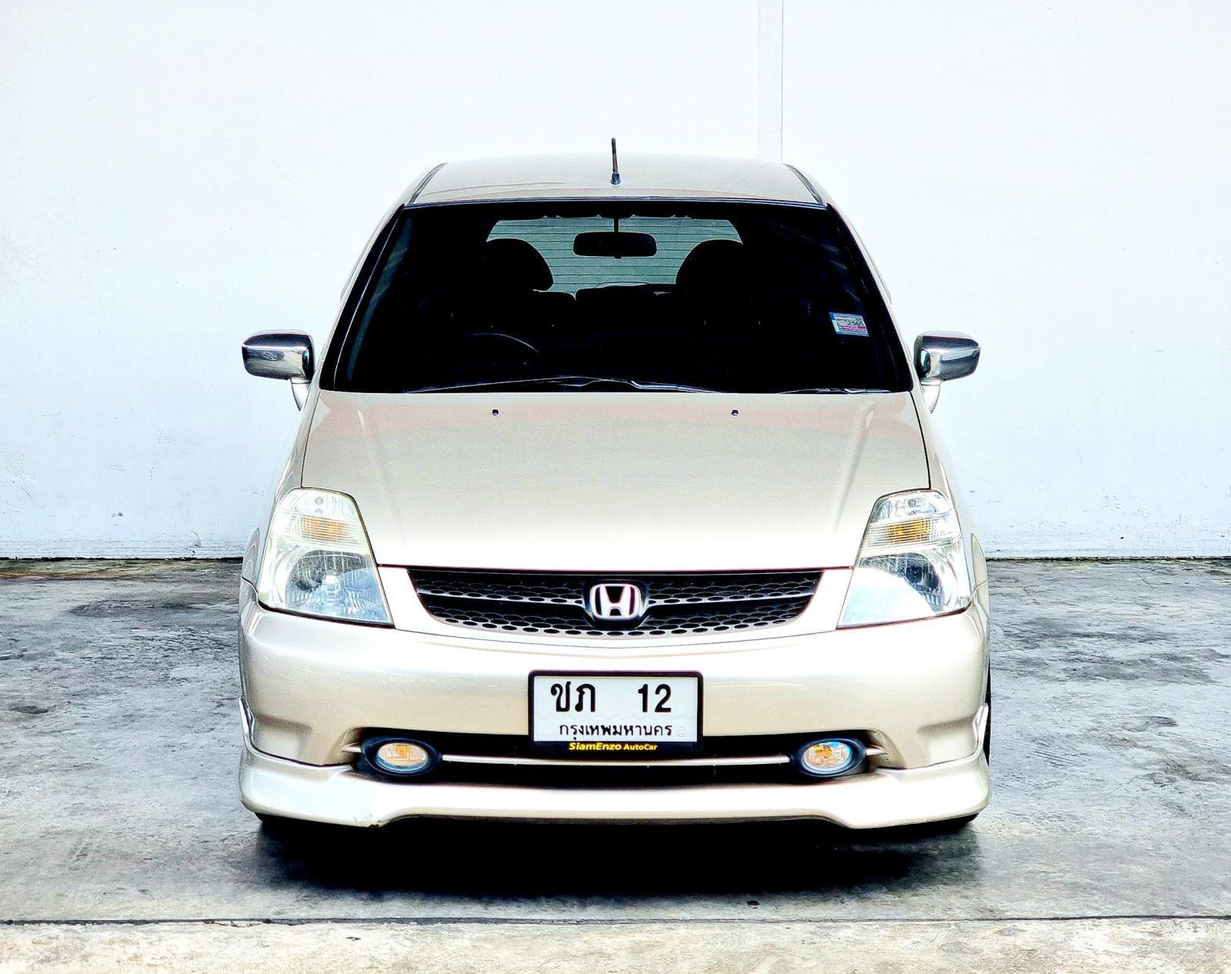license-plate: (519, 662, 717, 760)
